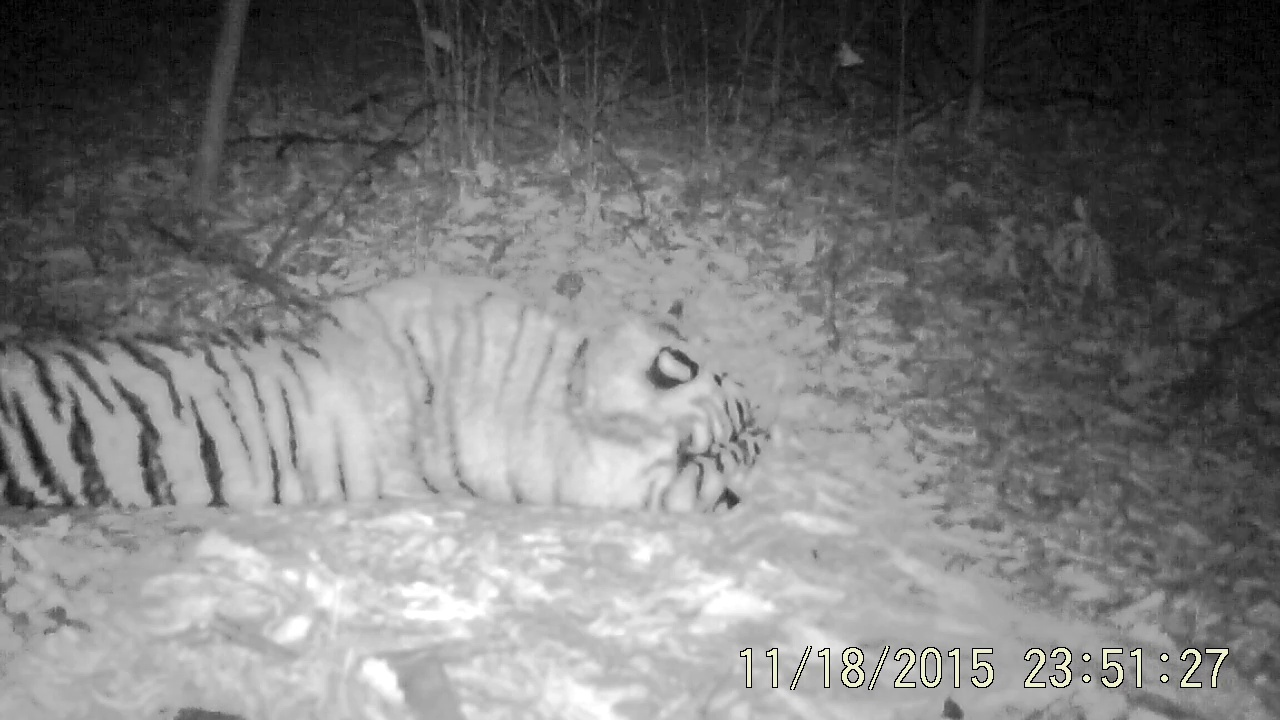Tiger: (3, 98, 889, 555)
